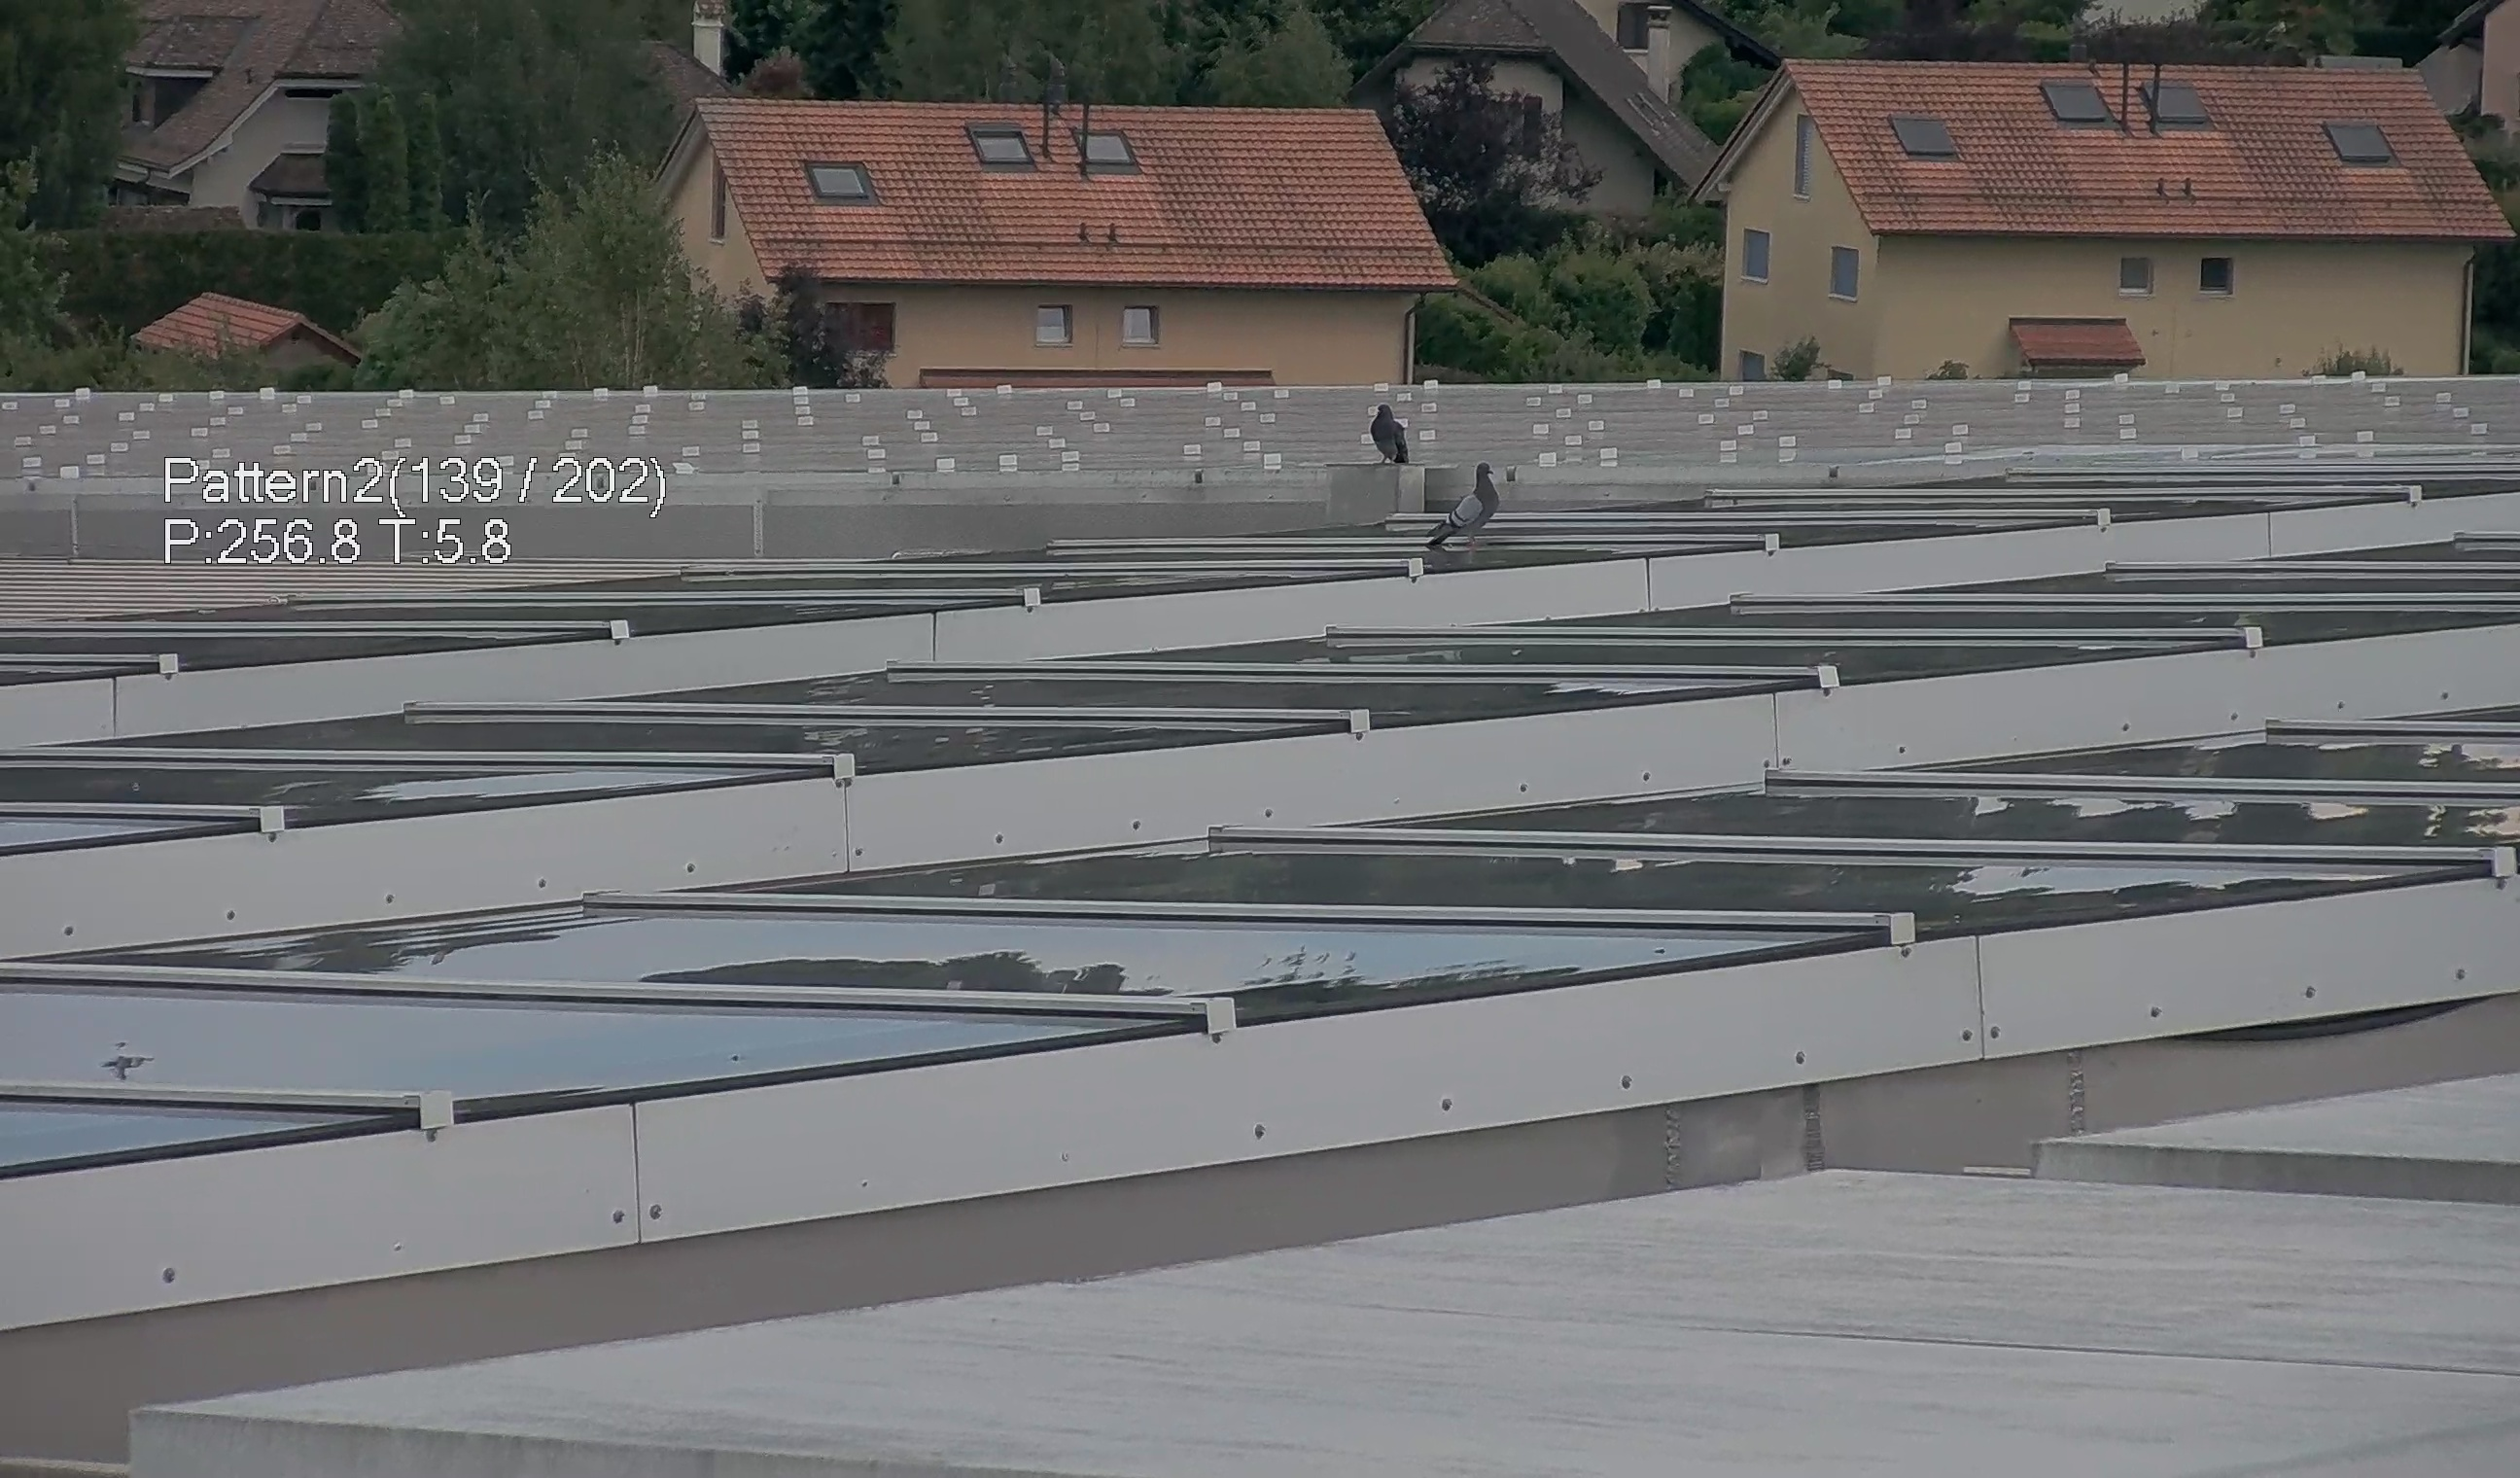Pigeon: (1409, 456, 1512, 561), (1368, 391, 1417, 472)
